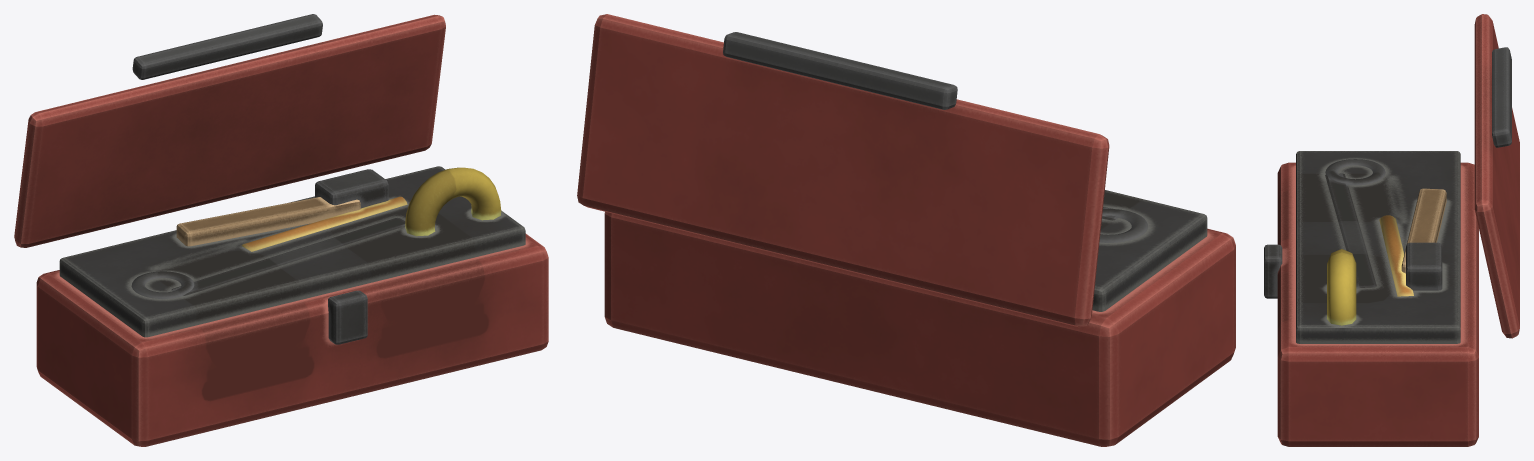
File: airlock_toolbox.glb
3 renders of one model, left to right at view 1: azimuth 30°, elevation 25°; view 2: azimuth 150°, elevation 25°; view 3: azimuth 270°, elevation 25°, orthographic. The views are drawn at different scales.
Parts seen in each view (by area): view 1: Toolbox; view 2: Toolbox; view 3: Toolbox.
Part boxes in pixels (x1,y1,x2,y2): Toolbox: [14, 14, 548, 446]; Toolbox: [577, 14, 1235, 446]; Toolbox: [1264, 14, 1519, 446].
Bounding box in the file's own units: 0.5 × 0.321 × 0.2797.
6 materials, 6 textured.
